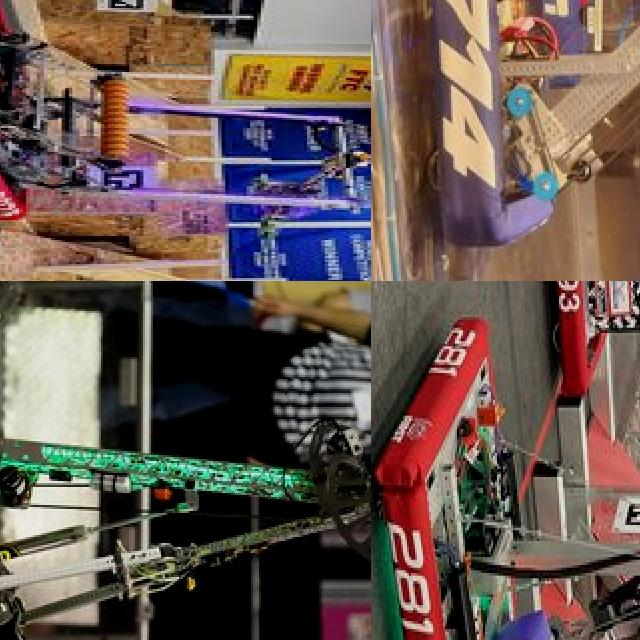FRC-Robots: (0, 343, 371, 640), (0, 30, 371, 260), (398, 339, 640, 640), (399, 0, 640, 278)
